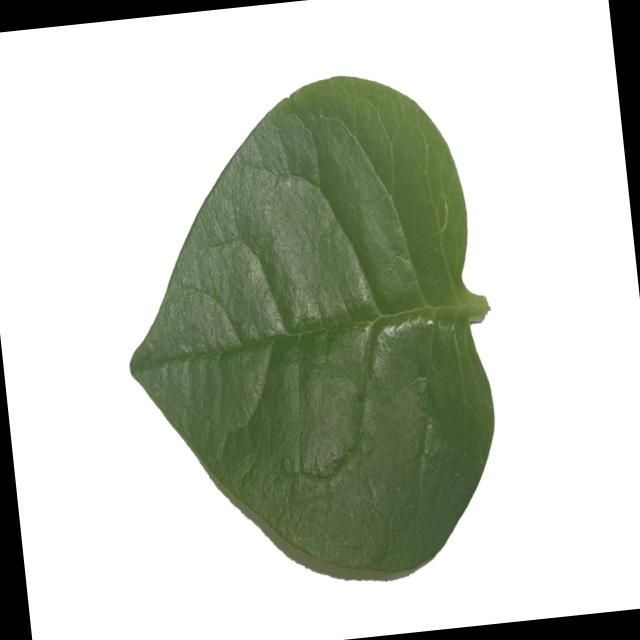Medicinal-Basale: (102, 58, 518, 600)
